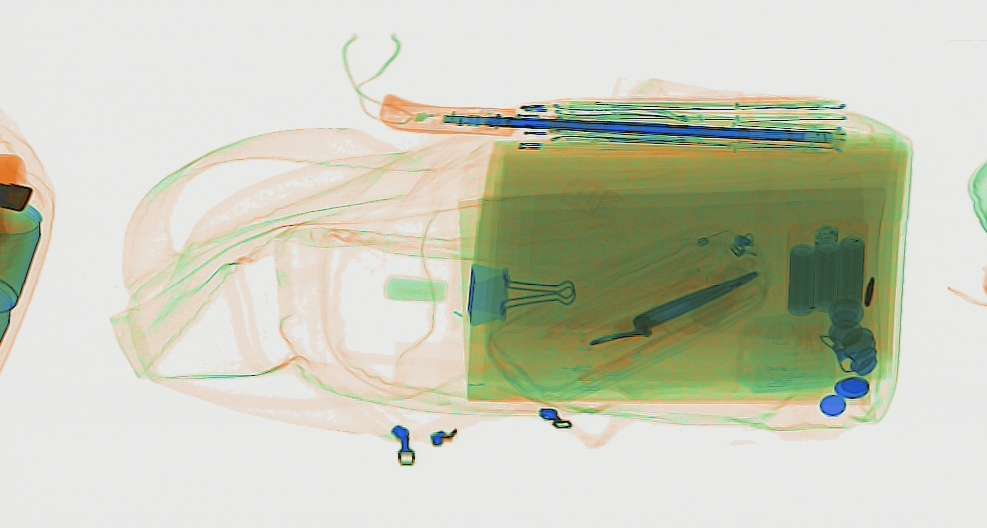powerbank: (783, 221, 867, 322)
